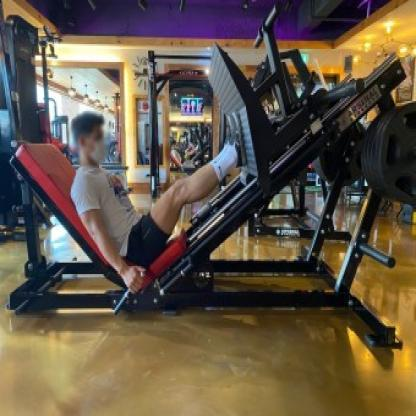leg press: (0, 3, 416, 366)
